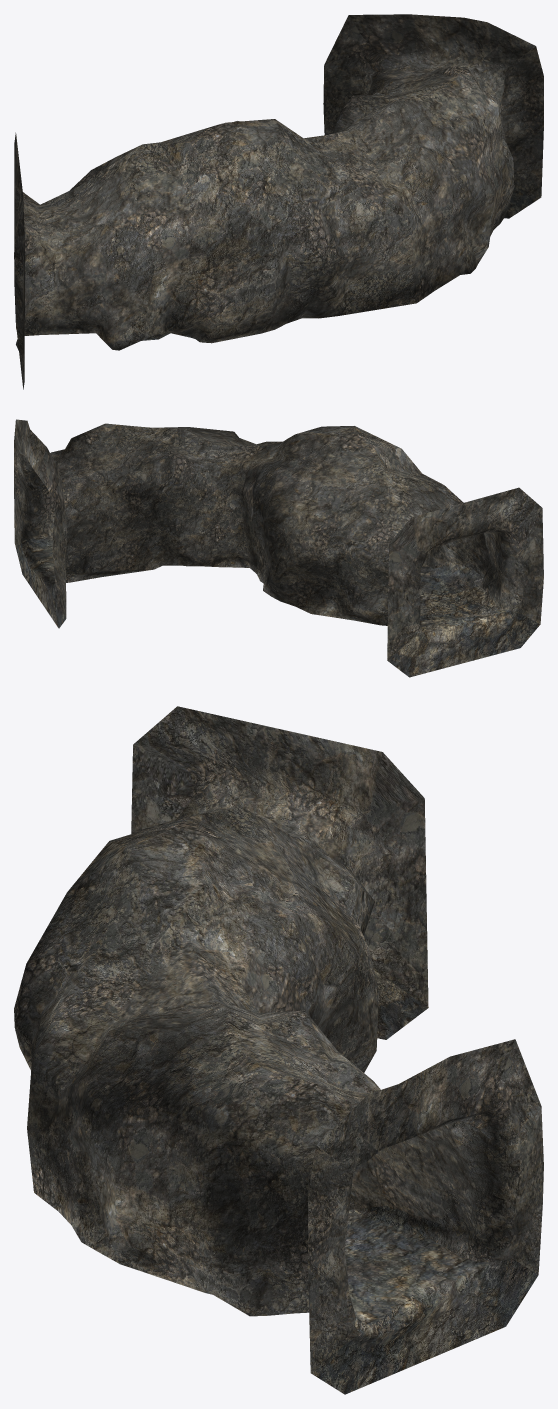
Rendered from Cave11.fbx.
3 renders of one model, top to bottom at view 1: azimuth 30°, elevation 25°; view 2: azimuth 150°, elevation 25°; view 3: azimuth 270°, elevation 25°, orthographic. The views are drawn at different scales.
Parts seen in each view (by area): view 1: Cave11; view 2: Cave11; view 3: Cave11.
Part boxes in pixels (x1=…): Cave11: x1=14, y1=14, x2=543, y2=389; Cave11: x1=14, y1=419, x2=543, y2=677; Cave11: x1=14, y1=706, x2=543, y2=1394.
Size of the model in its own units: 180 by 63.53 by 95.26.
